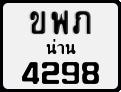letters: (50, 9, 69, 35), (72, 10, 91, 35), (21, 61, 40, 85), (41, 61, 60, 85), (61, 61, 80, 85), (81, 61, 100, 85), (29, 9, 46, 35)
province: (45, 38, 77, 55)
